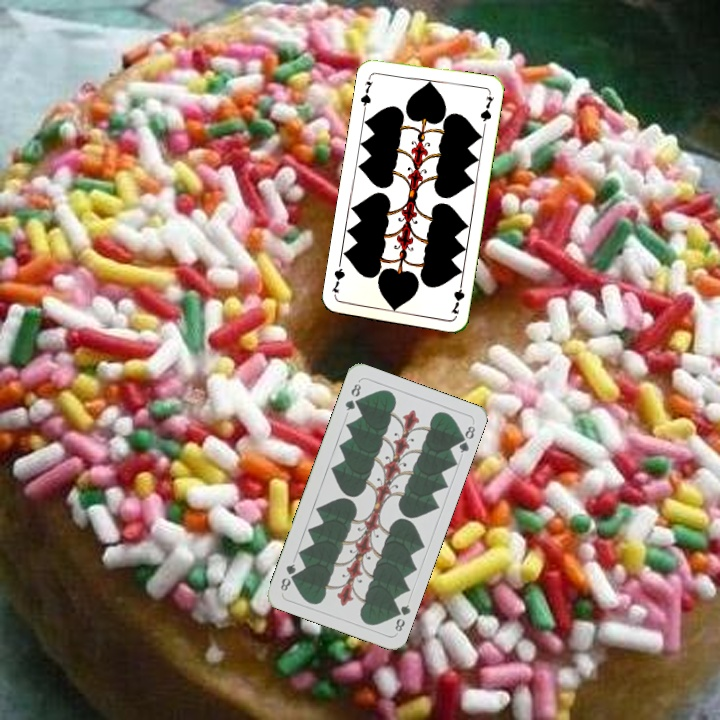G7: (447, 276, 467, 317), (356, 77, 375, 112)
G8: (341, 378, 364, 413), (390, 600, 413, 634)
